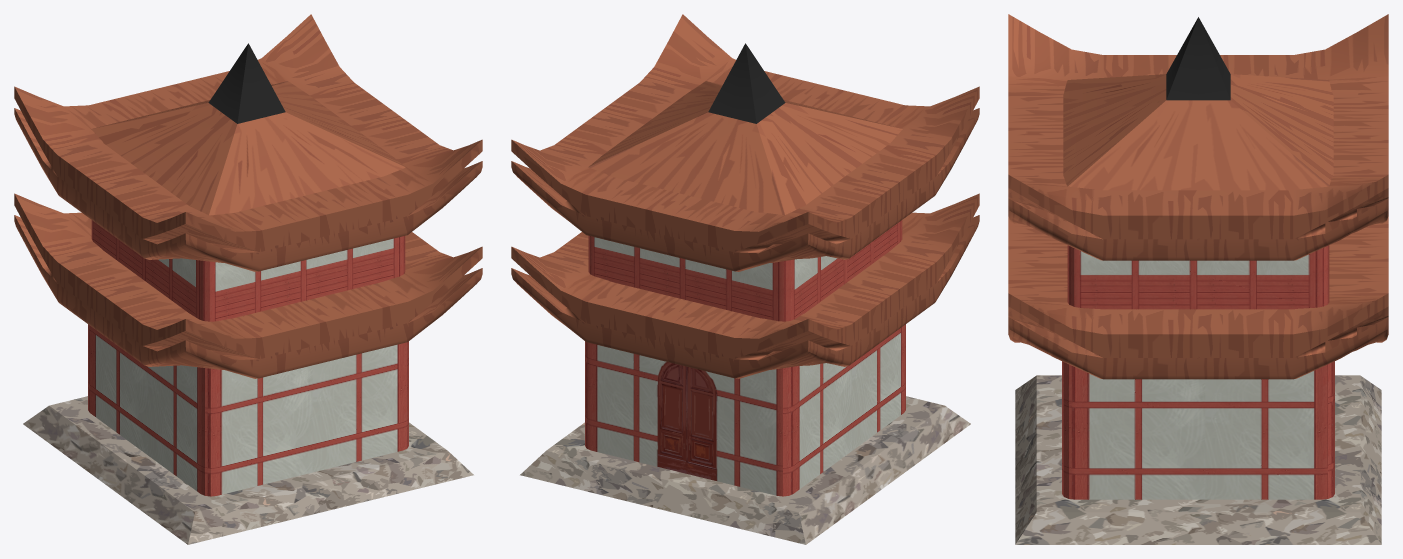
File: smallPagoda.fbx
3 renders of one model, left to right at view 1: azimuth 30°, elevation 25°; view 2: azimuth 150°, elevation 25°; view 3: azimuth 270°, elevation 25°, orthographic. The views are drawn at different scales.
Parts seen in each view (by area): view 1: polySurface1; view 2: polySurface1; view 3: polySurface1.
Boxes of the visible parts, bbox=[...] form: polySurface1: bbox=[14, 14, 482, 544]; polySurface1: bbox=[511, 14, 979, 544]; polySurface1: bbox=[1008, 14, 1388, 544].
Size of the model in its own units: 1452 by 1900 by 1452.
